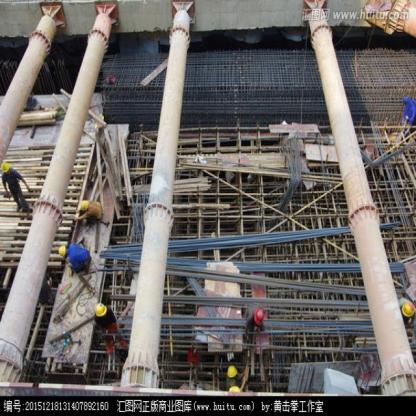person: (92, 300, 126, 354), (0, 161, 33, 213), (55, 237, 95, 273), (73, 191, 104, 224), (242, 302, 266, 344), (219, 361, 245, 388)
red-helm: (253, 303, 266, 326)
yellow-helm: (400, 298, 415, 318), (92, 299, 106, 318), (224, 362, 238, 378), (77, 195, 90, 210), (0, 158, 11, 174), (58, 241, 66, 261)
